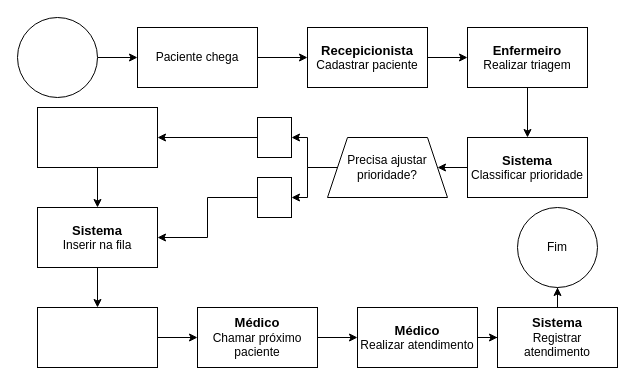
Image size: 635x385. Some labels were removed from this diagram. The box of each missing label's shape, as (x1, y1, x2, y2) in pixels:
Enfermeiro Ajustar prioridade: (36, 106, 158, 168)
Inicio: (16, 16, 98, 98)
Não: (256, 176, 292, 218)
Sim: (256, 116, 292, 158)
Sistema Organizar fila: (36, 306, 158, 368)
